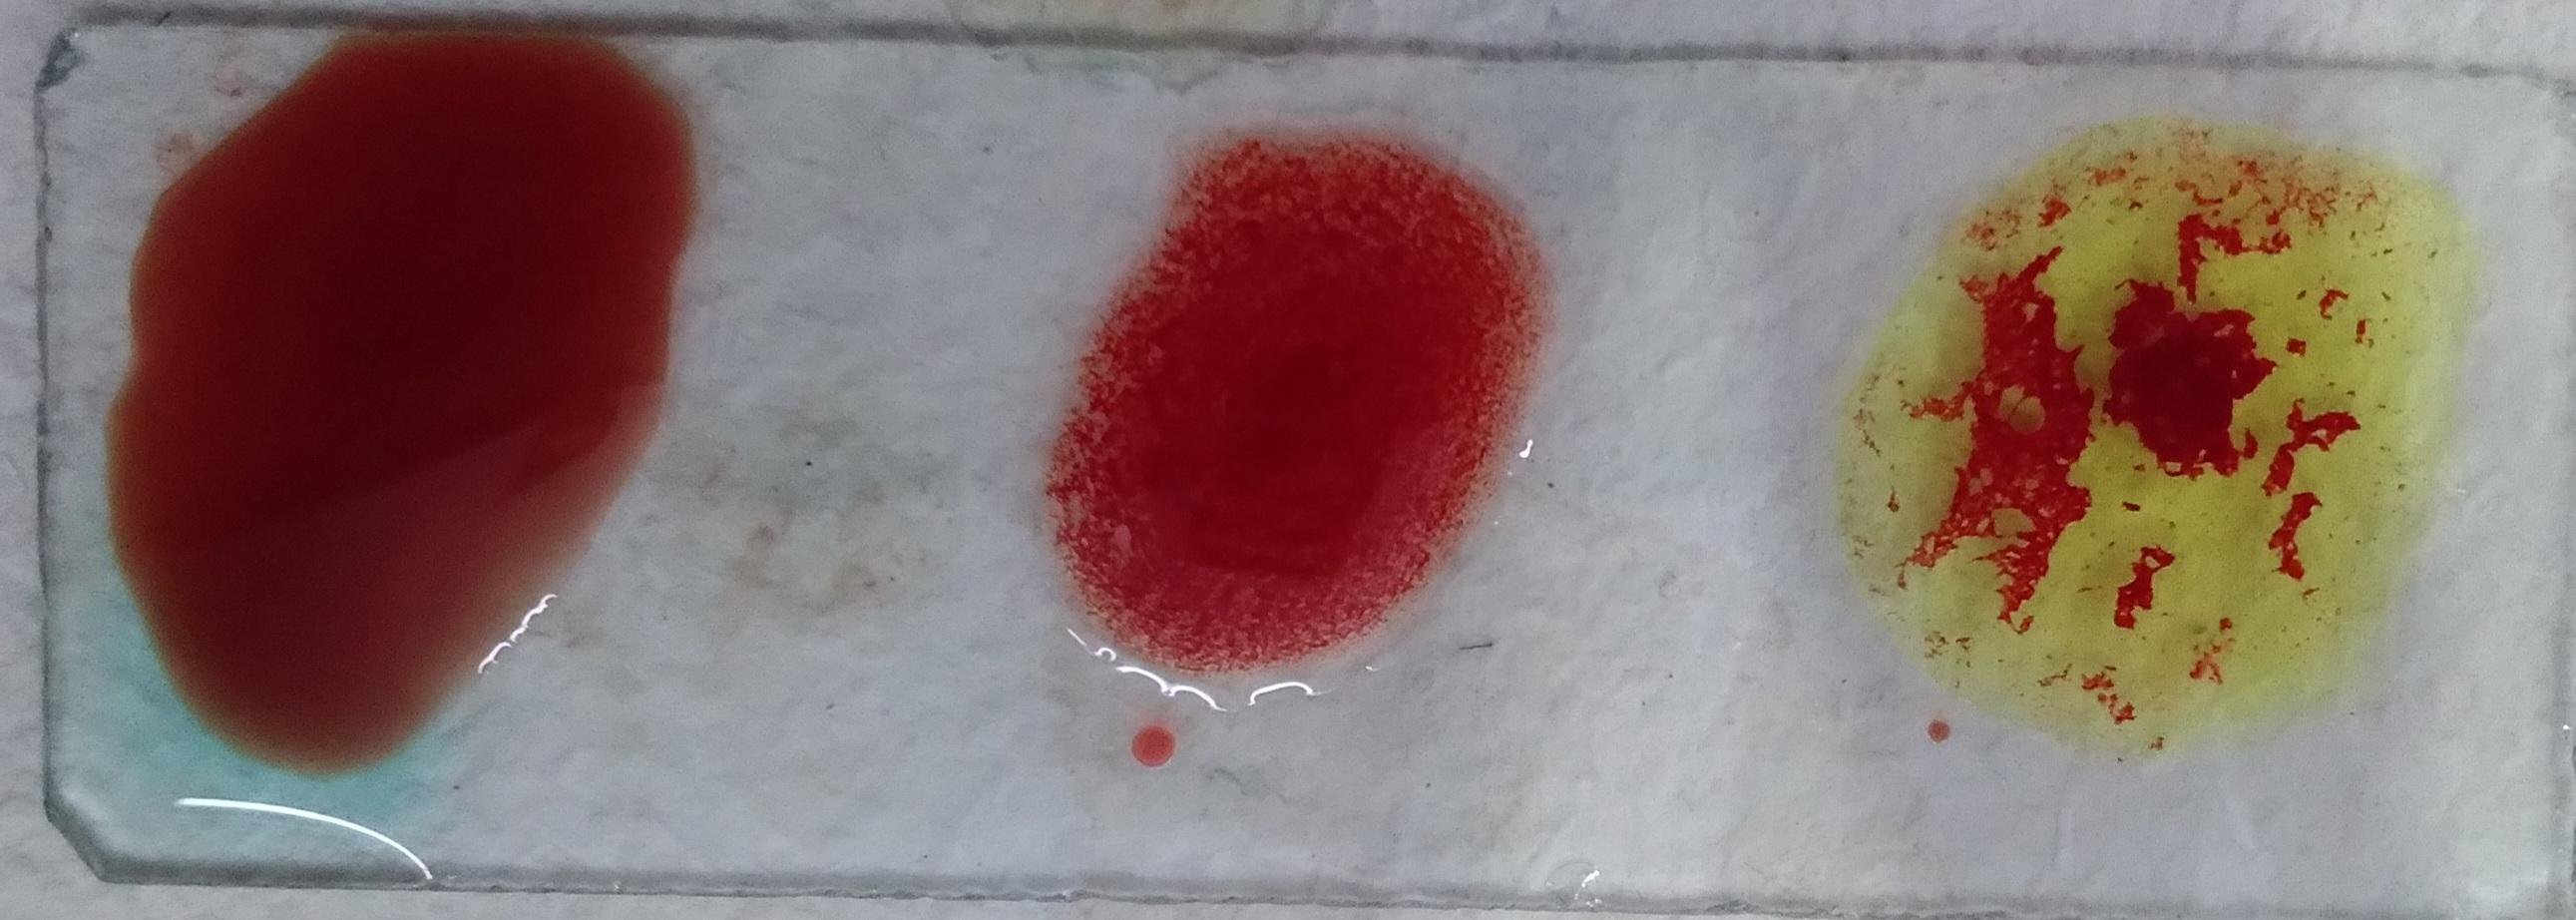B: (1853, 123, 2431, 754)
D: (1040, 115, 1556, 715)
